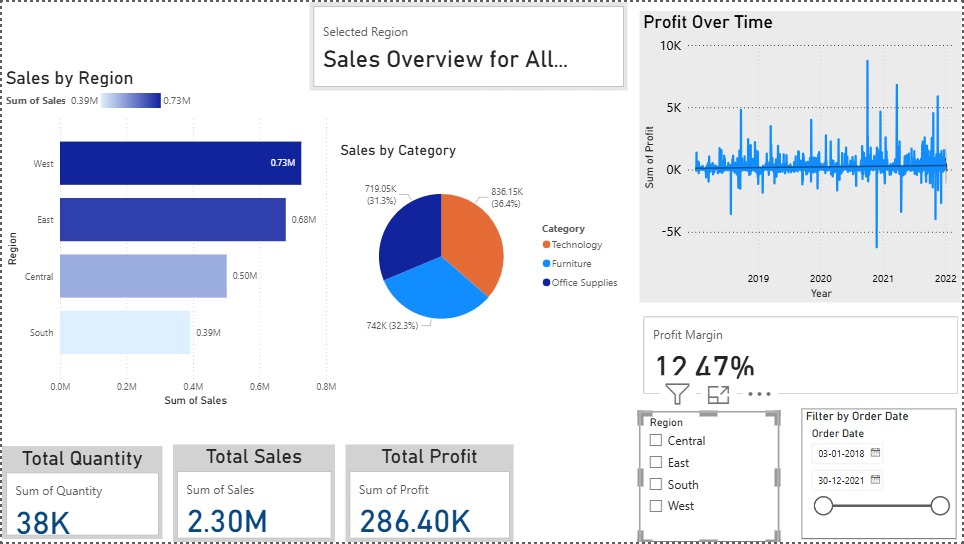

The page's visual inventory and layout, read from the dashboard file:
{"tool":"powerbi","page":{"name":"Full Dashboard","canvas":[1280,720],"ordinal":1},"visuals":[{"type":"barChart","title":"Sales by Region","fields":{"Category":["Orders.Region"],"Y":["Sum(Orders.Sales)"]},"box":[0,85.1,457.7,457.7],"z":0},{"type":"lineChart","title":"Profit Over Time","fields":{"Category":["Orders.Order Date.Variation.Date Hierarchy.Year","Orders.Order Date.Variation.Date Hierarchy.Quarter","Orders.Order Date.Variation.Date Hierarchy.Month","Orders.Order Date.Variation.Date Hierarchy.Day"],"Y":["Sum(Orders.Profit)"]},"box":[850.6,12.2,429.4,388.9],"z":1000},{"type":"cardVisual","title":"Total Sales","fields":{"Data":["Sum(Orders.Sales)"]},"box":[228,590,216,130],"z":2000},{"type":"cardVisual","title":"Total Profit","fields":{"Data":["Sum(Orders.Profit)"]},"box":[458,590,224,130],"z":3000},{"type":"cardVisual","title":"Total Quantity","fields":{"Data":["Sum(Orders.Quantity)"]},"box":[0,592,214,124],"z":4000},{"type":"pieChart","title":"Sales by Category","fields":{"Category":["Orders.Category"],"Y":["Sum(Orders.Sales)"]},"box":[445.6,186.3,388.9,283.5],"z":5000},{"type":"slicer","fields":{"Values":["Orders.Region"]},"box":[850.6,546.8,186.3,174.2],"z":6000},{"type":"slicer","title":"Filter by Order Date","fields":{"Values":["Orders.Order Date"]},"box":[1065.3,542.8,206.6,174.2],"z":7000},{"type":"cardVisual","fields":{"Data":["Orders.SelectedRegion"]},"box":[410,0,424,118],"z":8000},{"type":"cardVisual","fields":{"Data":["Orders.ProfitMargin"]},"box":[850.6,413.2,429.4,113.4],"z":9000}]}

Visuals, with their boxes in screenshot pixels (x1, y1, x2, y2), scaled from the page's 1280x720 canvas onto the 964x544 screenshot:
"Sales by Region" barChart: x1=0, y1=64, x2=345, y2=410
"Profit Over Time" lineChart: x1=641, y1=9, x2=963, y2=303
"Total Sales" cardVisual: x1=172, y1=446, x2=334, y2=543
"Total Profit" cardVisual: x1=345, y1=446, x2=514, y2=543
"Total Quantity" cardVisual: x1=0, y1=447, x2=161, y2=541
"Sales by Category" pieChart: x1=336, y1=141, x2=628, y2=355
slicer - Orders.Region: x1=641, y1=413, x2=781, y2=543
"Filter by Order Date" slicer: x1=802, y1=410, x2=958, y2=542
cardVisual - Orders.SelectedRegion: x1=309, y1=0, x2=628, y2=89
cardVisual - Orders.ProfitMargin: x1=641, y1=312, x2=963, y2=398
